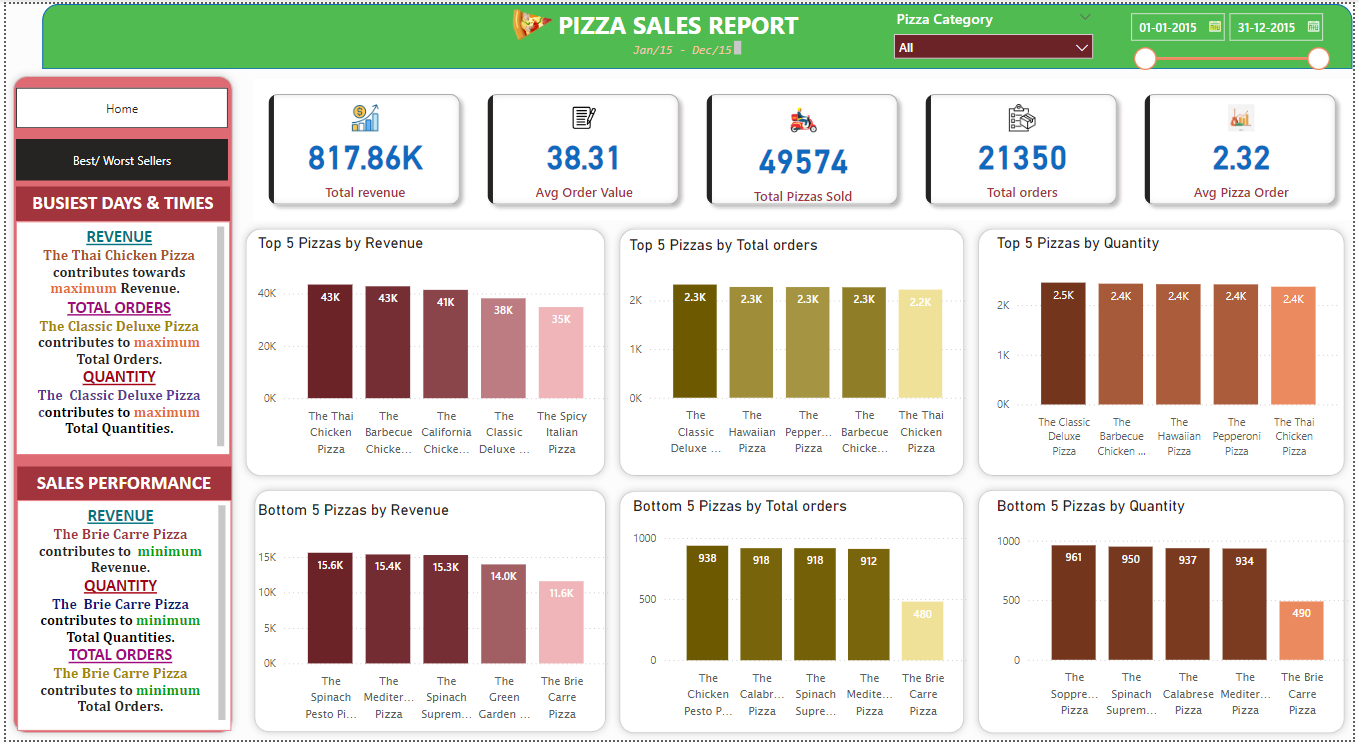

The dashboard page shown, as its layout file describes it:
{"tool":"powerbi","page":{"name":"Best/ Worst Sellers","canvas":[1500,820],"ordinal":1},"visuals":[{"type":"shape","box":[0,72.4,260.4,747.9],"z":0},{"type":"cardVisual","fields":{"Data":["pizza_sales.Total revenue","pizza_sales.Avg Order Value","pizza_sales.Total Pizzas Sold","pizza_sales.Total orders","pizza_sales.Avg Pizza Order"]},"box":[275.7,83.6,1224.2,157.4],"z":1000},{"type":"shape","box":[40.6,0,1459.7,72.5],"z":2000},{"type":"textbox","box":[595.3,0,308.3,47.1],"z":3000},{"type":"textbox","box":[694,36.4,130.6,25.8],"z":4000},{"type":"image","box":[560.3,0,54.7,47.1],"z":5000},{"type":"shape","box":[259.7,242.3,416.4,291.6],"z":6000},{"type":"textbox","box":[11.5,203.9,238.3,38.8],"z":7000},{"type":"textbox","box":[11.5,242.6,238.3,259.9],"z":8000},{"type":"textbox","box":[12.5,515.3,238.1,37.6],"z":9000},{"type":"textbox","box":[12.9,552.7,238.3,257],"z":10000},{"type":"slicer","fields":{"Values":["pizza_sales.pizza_category"]},"box":[979.4,0,242.3,72.5],"z":11000},{"type":"slicer","fields":{"Values":["pizza_sales.order_date"]},"box":[1240.4,0,242.6,83.3],"z":12000},{"type":"shape","box":[1075.7,242.9,424.3,291.4],"z":13000},{"type":"shape","box":[675.7,242.9,400,291.4],"z":14000},{"type":"shape","box":[675.7,534.3,400,285.7],"z":15000},{"type":"shape","box":[268.4,534,407.7,285.8],"z":16000},{"type":"shape","box":[1075.7,532.9,424.3,287.1],"z":17000},{"type":"clusteredColumnChart","title":"Top 5 Pizzas by Revenue","fields":{"Category":["pizza_sales.pizza_name"],"Y":["pizza_sales.Total revenue"]},"box":[275.5,256.4,400.2,258.1],"z":18000},{"type":"columnChart","title":"Bottom 5 Pizzas by Revenue","fields":{"Category":["pizza_sales.pizza_name"],"Y":["pizza_sales.Total revenue"]},"box":[275.7,552.7,400.6,257],"z":19000},{"type":"columnChart","title":"Top 5 Pizzas by Quantity","fields":{"Category":["pizza_sales.pizza_name"],"Y":["pizza_sales.Total Pizzas Sold"]},"box":[1098.6,255.7,392.9,257.1],"z":20000},{"type":"columnChart","title":"Bottom 5 Pizzas by Quantity","fields":{"Category":["pizza_sales.pizza_name"],"Y":["pizza_sales.Total Pizzas Sold"]},"box":[1098.6,548.6,401.4,257.1],"z":21000},{"type":"columnChart","title":"Top 5 Pizzas by Total orders","fields":{"Category":["pizza_sales.pizza_name"],"Y":["pizza_sales.Total orders"]},"box":[689.4,257.6,385.8,256.3],"z":22000},{"type":"columnChart","title":"Bottom 5 Pizzas by Total orders","fields":{"Category":["pizza_sales.pizza_name"],"Y":["pizza_sales.Total orders"]},"box":[693.5,548.7,381.6,257.6],"z":23000},{"type":"pageNavigator","box":[11.1,150.4,236.8,46],"z":24000},{"type":"pageNavigator","box":[11.1,93.3,236.8,46],"z":25000}]}

Visuals, with their boxes in screenshot pixels (x1, y1, x2, y2), scaled from the page's 1500x820 canvas onto the 1359x742 screenshot:
shape: detection(0, 66, 236, 741)
cardVisual - pizza_sales.Total revenue x pizza_sales.Avg Order Value: detection(250, 76, 1358, 218)
shape: detection(37, 0, 1358, 66)
textbox: detection(539, 0, 819, 43)
textbox: detection(629, 33, 747, 56)
image: detection(508, 0, 557, 43)
shape: detection(235, 219, 613, 483)
textbox: detection(10, 185, 226, 220)
textbox: detection(10, 220, 226, 455)
textbox: detection(11, 466, 227, 500)
textbox: detection(12, 500, 228, 733)
slicer - pizza_sales.pizza_category: detection(887, 0, 1107, 66)
slicer - pizza_sales.order_date: detection(1124, 0, 1344, 75)
shape: detection(975, 220, 1358, 483)
shape: detection(612, 220, 975, 483)
shape: detection(612, 483, 975, 741)
shape: detection(243, 483, 613, 741)
shape: detection(975, 482, 1358, 741)
"Top 5 Pizzas by Revenue" clusteredColumnChart: detection(250, 232, 612, 466)
"Bottom 5 Pizzas by Revenue" columnChart: detection(250, 500, 613, 733)
"Top 5 Pizzas by Quantity" columnChart: detection(995, 231, 1351, 464)
"Bottom 5 Pizzas by Quantity" columnChart: detection(995, 496, 1358, 729)
"Top 5 Pizzas by Total orders" columnChart: detection(625, 233, 974, 465)
"Bottom 5 Pizzas by Total orders" columnChart: detection(628, 497, 974, 730)
pageNavigator: detection(10, 136, 225, 178)
pageNavigator: detection(10, 84, 225, 126)
